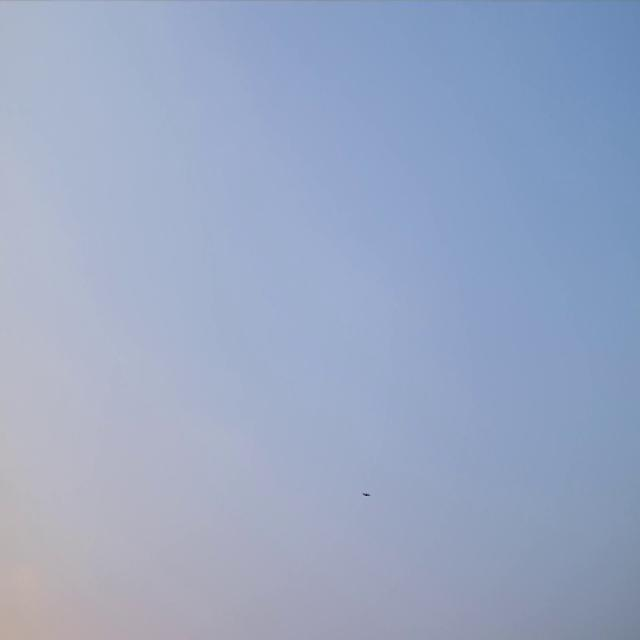UAV: (360, 491, 371, 497)
